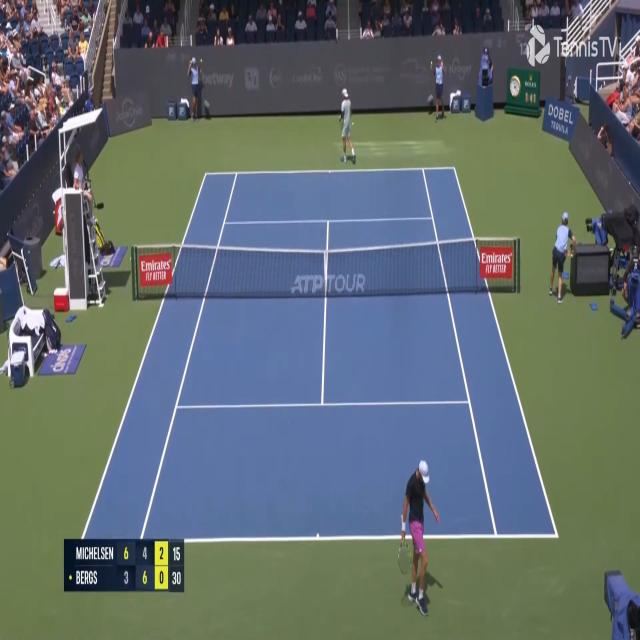tennis-player: (395, 454, 444, 620), (337, 85, 357, 164)
